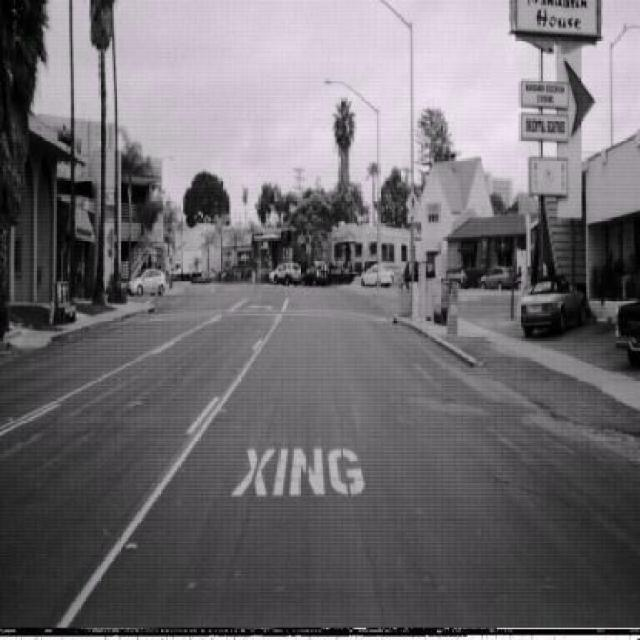pedestrianCrossing: (405, 190, 420, 218)
